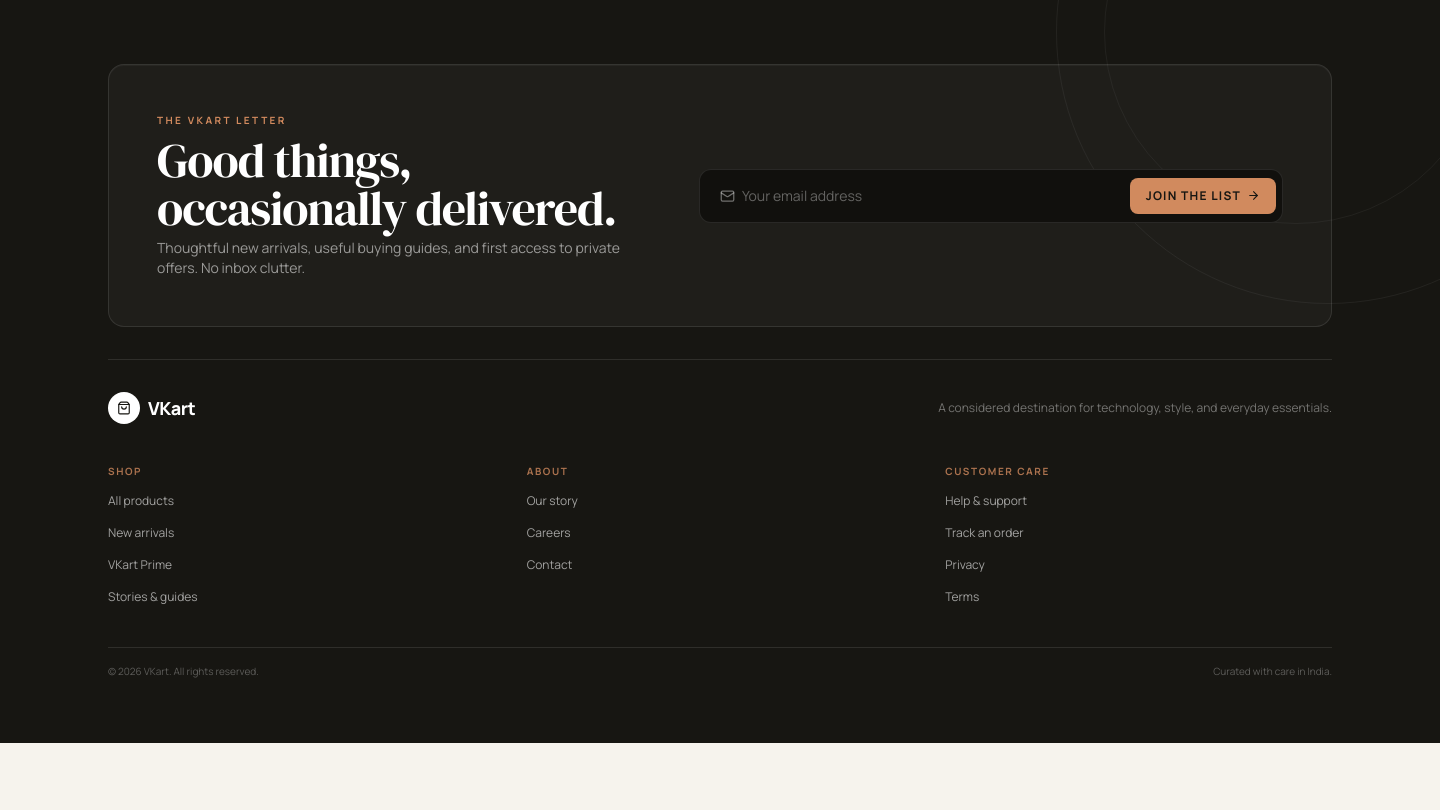
it: Footer Component › subscribes to the newsletter and shows a confirmation
Type "reader@example.com" into the field with placeholder "Your email address".
click(918, 196); type("reader@example.com")  # box [706,176,1130,216]
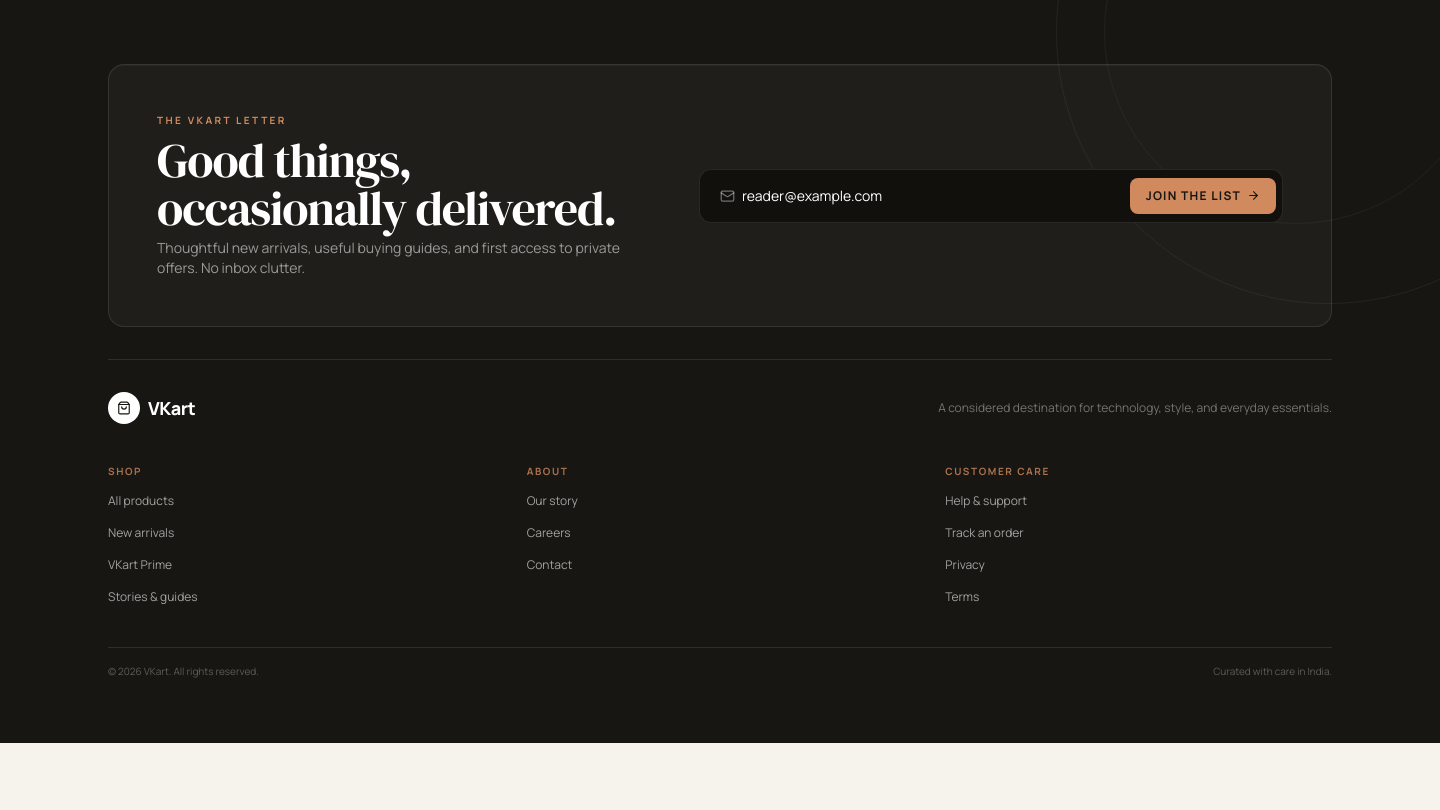
Click the button "Join the list".
click(1203, 196)  # box [1130,178,1276,214]
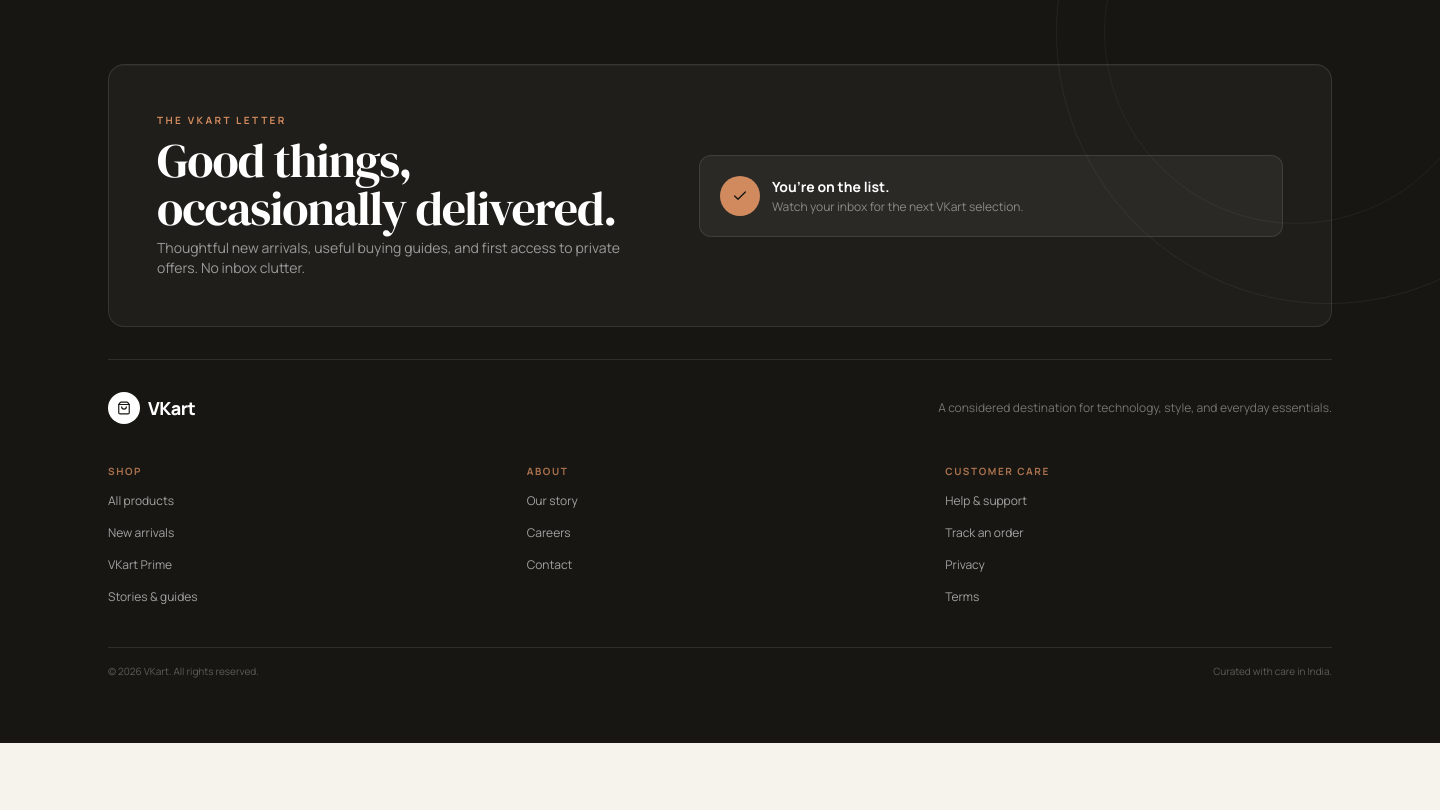
Now the text "You’re on the list." is shown, box [772,176,889,196]
